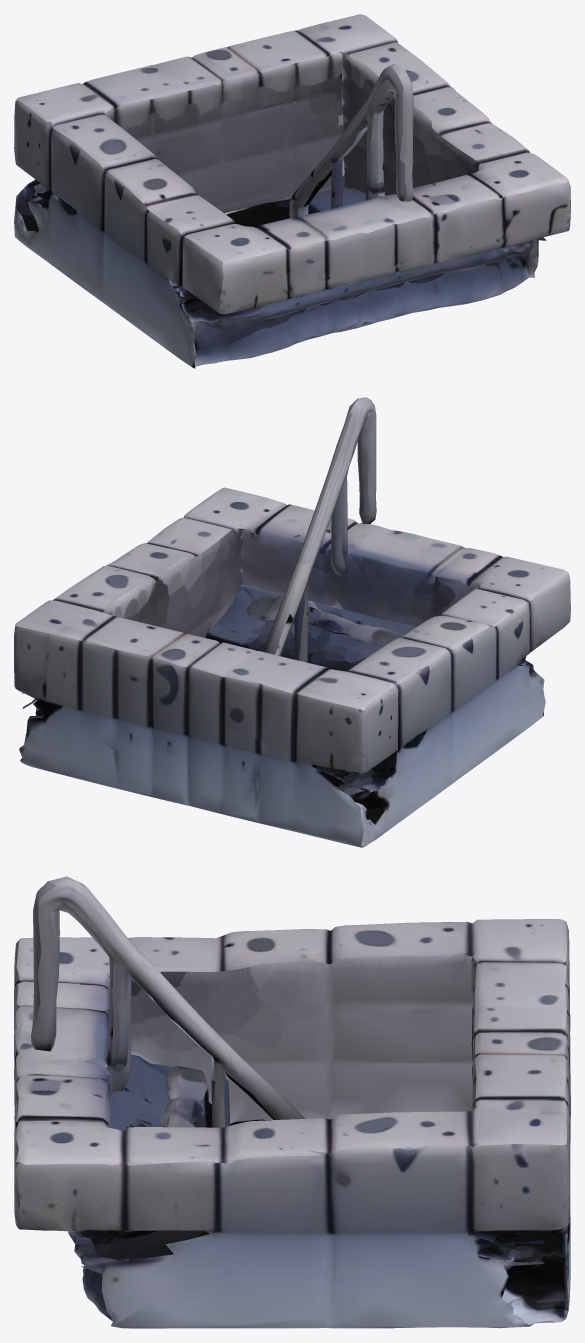
File: stairs.glb
3 views of the same model, one above another, from view 1: azimuth 30°, elevation 25°; view 2: azimuth 150°, elevation 25°; view 3: azimuth 270°, elevation 25° (orthographic). The views are drawn at different scales.
Visible parts, largest first — view 1: stairs_s15; view 2: stairs_s15; view 3: stairs_s15.
Part boxes in pixels (x1,y1,x2,y2): stairs_s15: [14, 14, 570, 368]; stairs_s15: [14, 397, 570, 847]; stairs_s15: [14, 876, 570, 1328].
Size of the model in its own units: 0.966 by 0.6939 by 1.
1 material, 1 textured.
